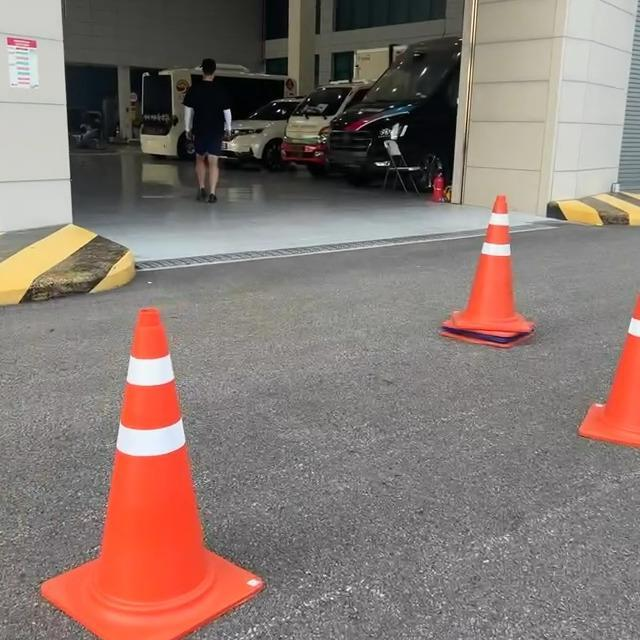fallen_object: (70, 310, 260, 640), (523, 246, 640, 536), (405, 170, 518, 346)
